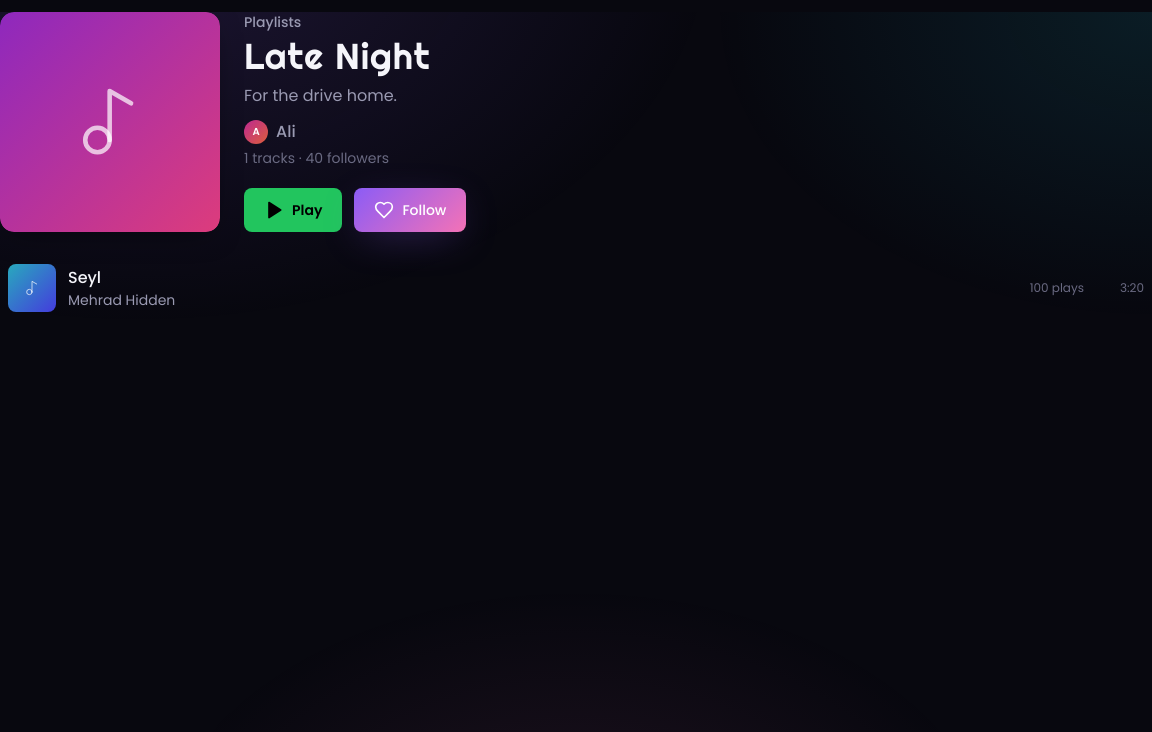
Test: PlaylistPage — following › explains a failed follow instead of silently resetting
Step 1. Click the button "Follow" → [410, 210], box [354,188,466,232]
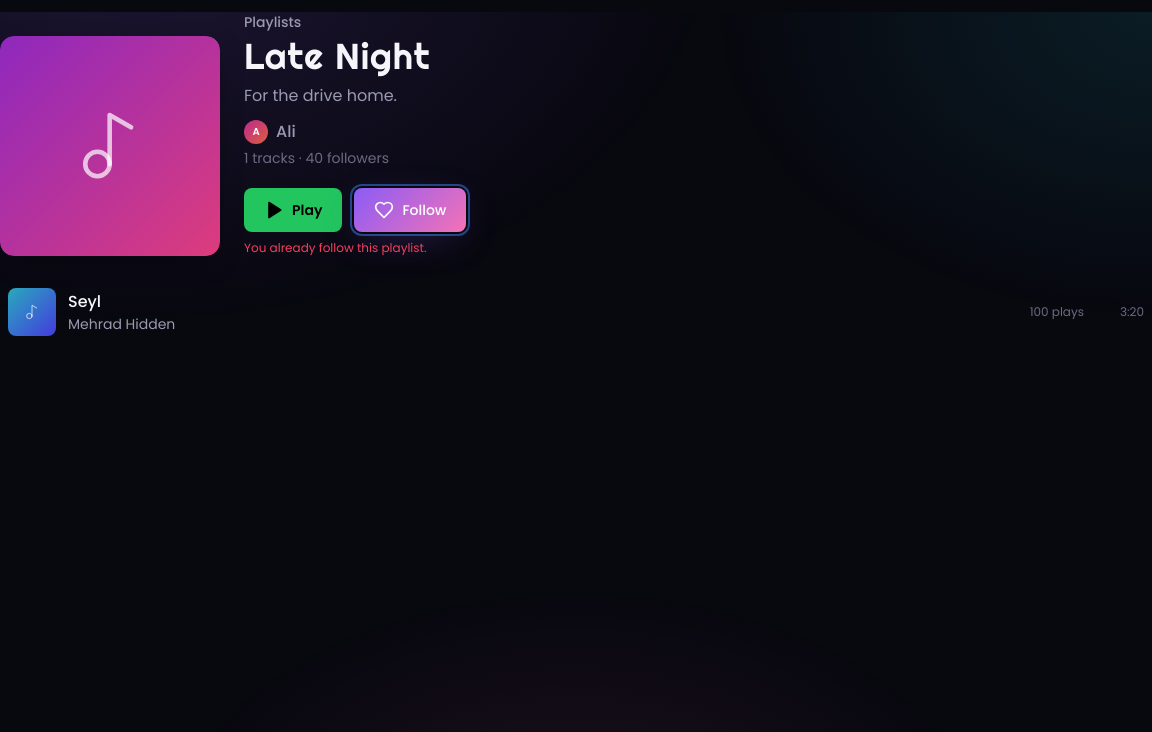
Result: the message reads "You already follow this playlist." at [244,239,426,256]
